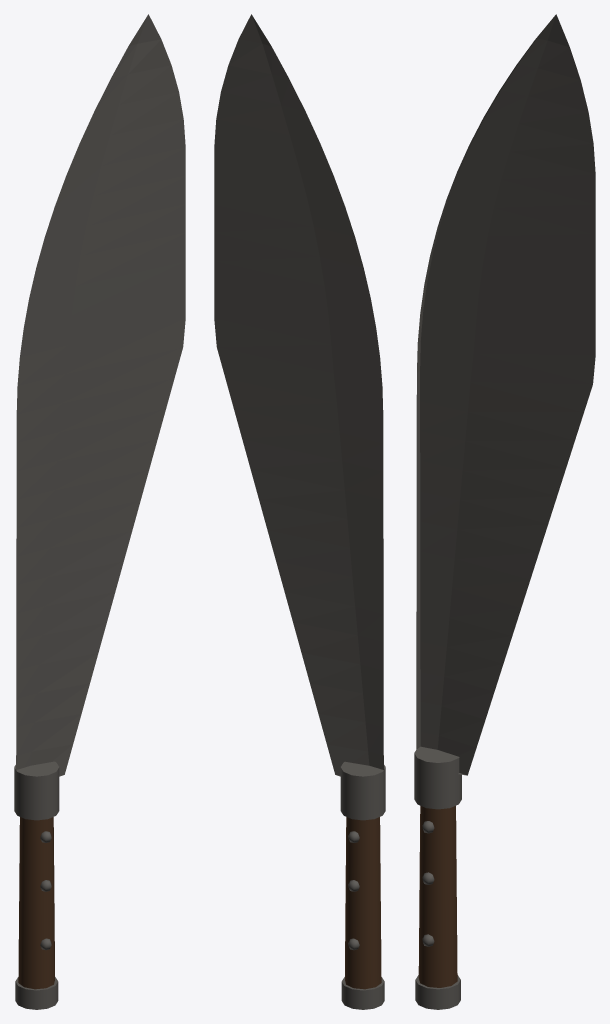
The model's file is cleaver.glb.
3 views of the same model, side by side, from view 1: azimuth 30°, elevation 25°; view 2: azimuth 150°, elevation 25°; view 3: azimuth 330°, elevation 25° (orthographic). The views are drawn at different scales.
Parts seen in each view (by area): view 1: WeaponDrawn; view 2: WeaponDrawn; view 3: WeaponDrawn.
Part boxes in pixels (left/top/right/bottom): WeaponDrawn: left=14, top=14, right=185, bottom=1009; WeaponDrawn: left=214, top=14, right=385, bottom=1009; WeaponDrawn: left=414, top=14, right=595, bottom=1009.
Bounding box in the file's own units: 0.181 × 0.985 × 0.0444.
